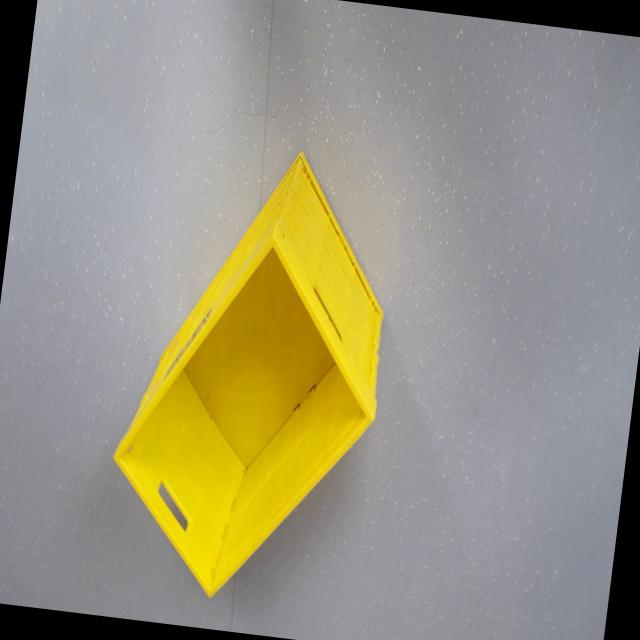box: (89, 73, 430, 628)
